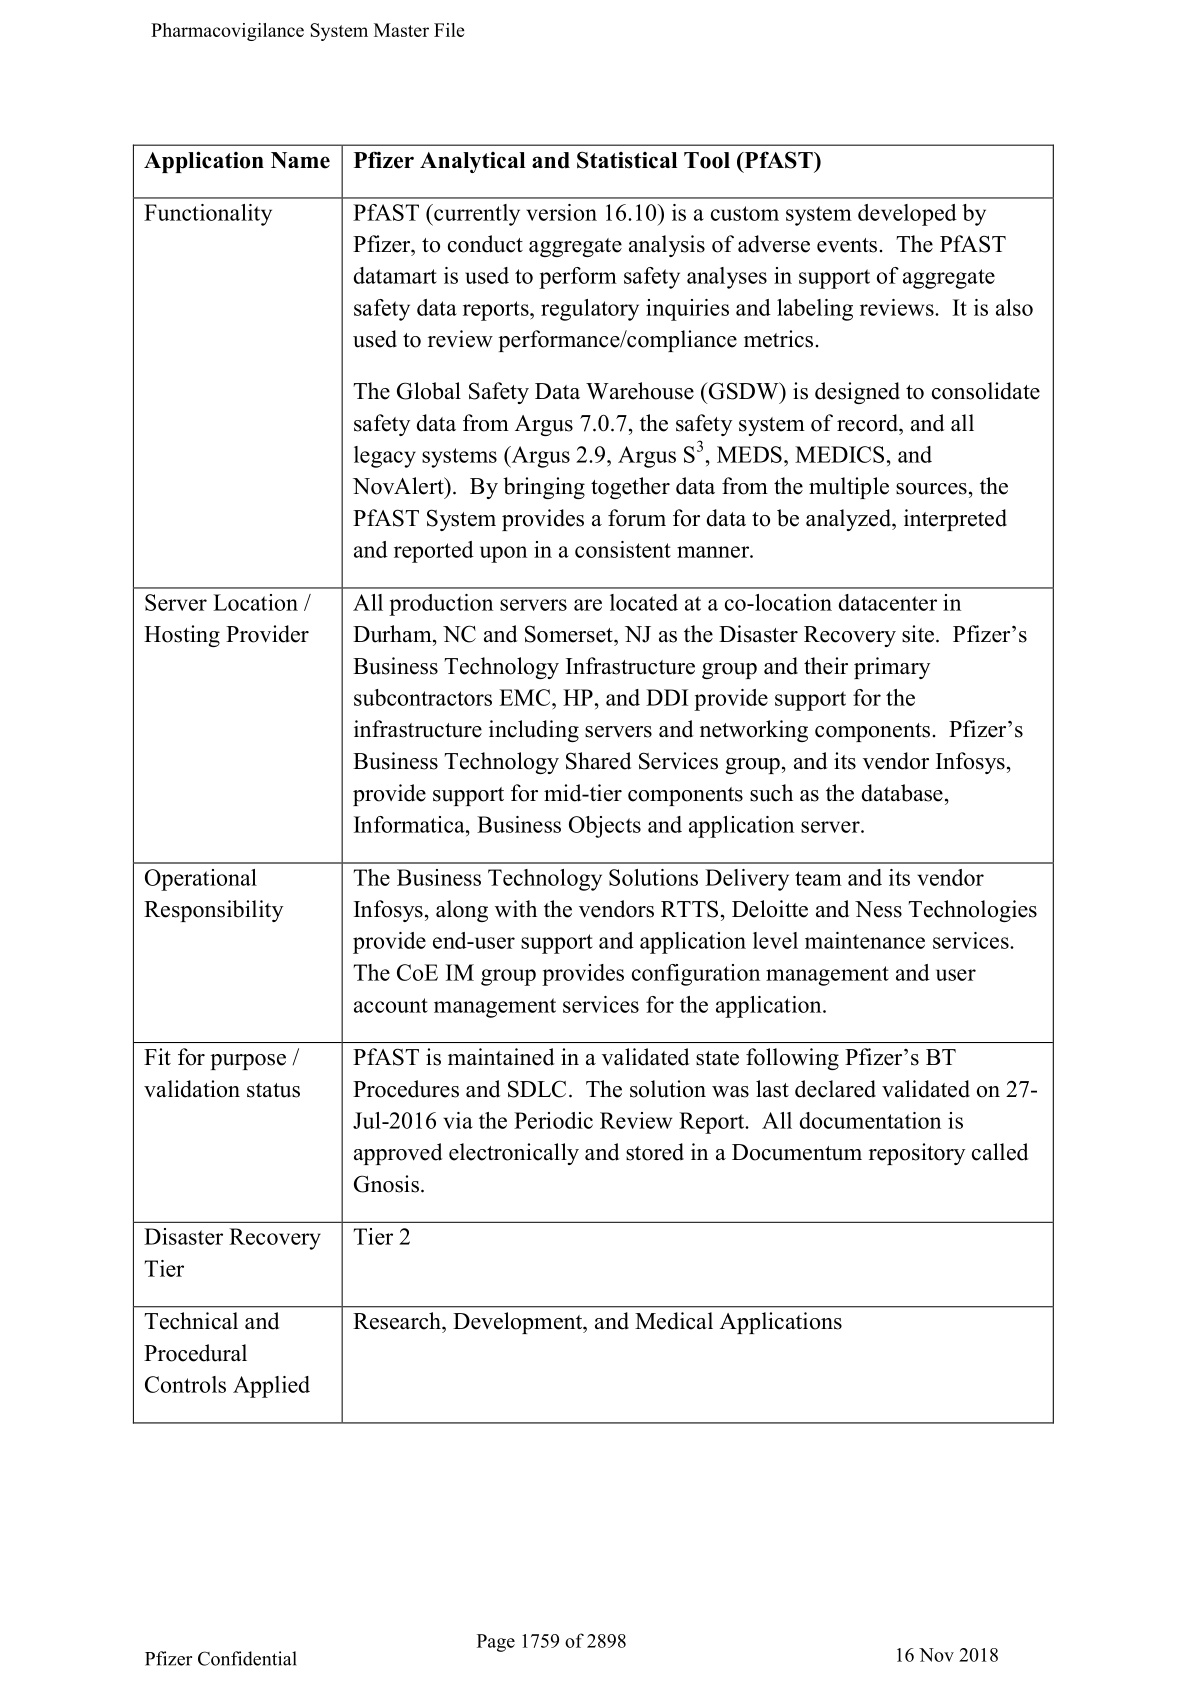full_lined: (131, 143, 1054, 1425)
